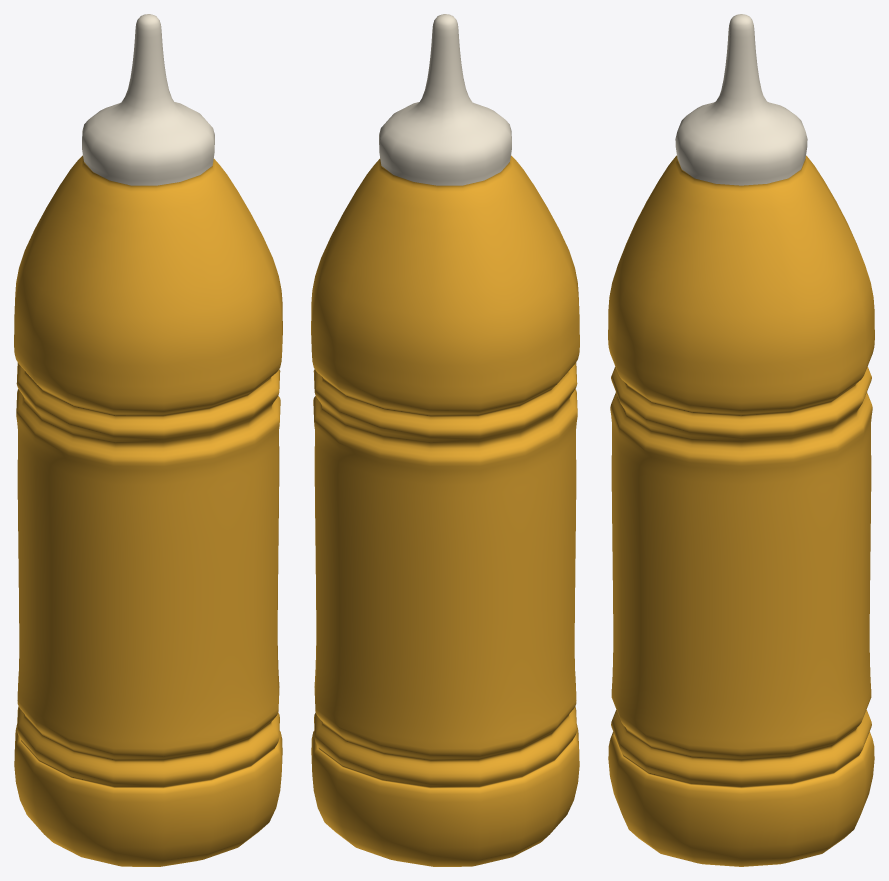
Rendered from props_grocery_mustard.fbx.
3 renders of one model, left to right at view 1: azimuth 30°, elevation 25°; view 2: azimuth 150°, elevation 25°; view 3: azimuth 270°, elevation 25°, orthographic.
Visible parts, largest first — view 1: pCube1; view 2: pCube1; view 3: pCube1.
Boxes of the visible parts, left/top/right/bottom form: pCube1: left=14, top=14, right=282, bottom=866; pCube1: left=311, top=14, right=579, bottom=866; pCube1: left=608, top=14, right=874, bottom=866.
Bounding box in the file's own units: 0.9062 × 3.06 × 0.9062.
